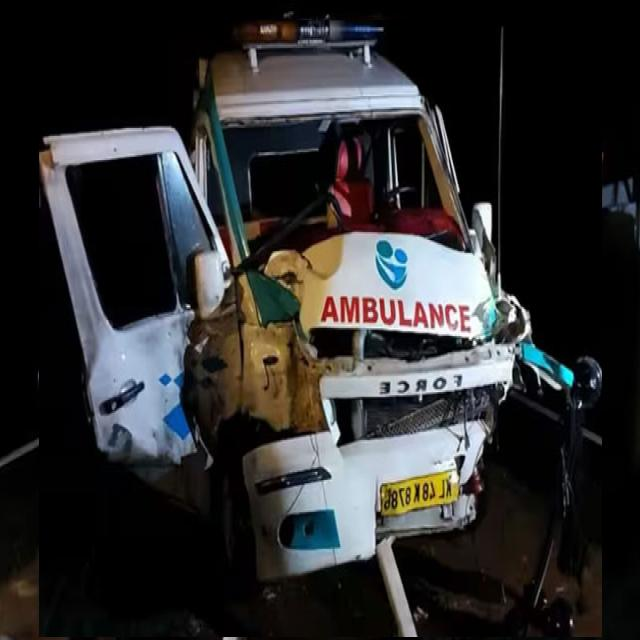accident: (39, 20, 602, 637)
